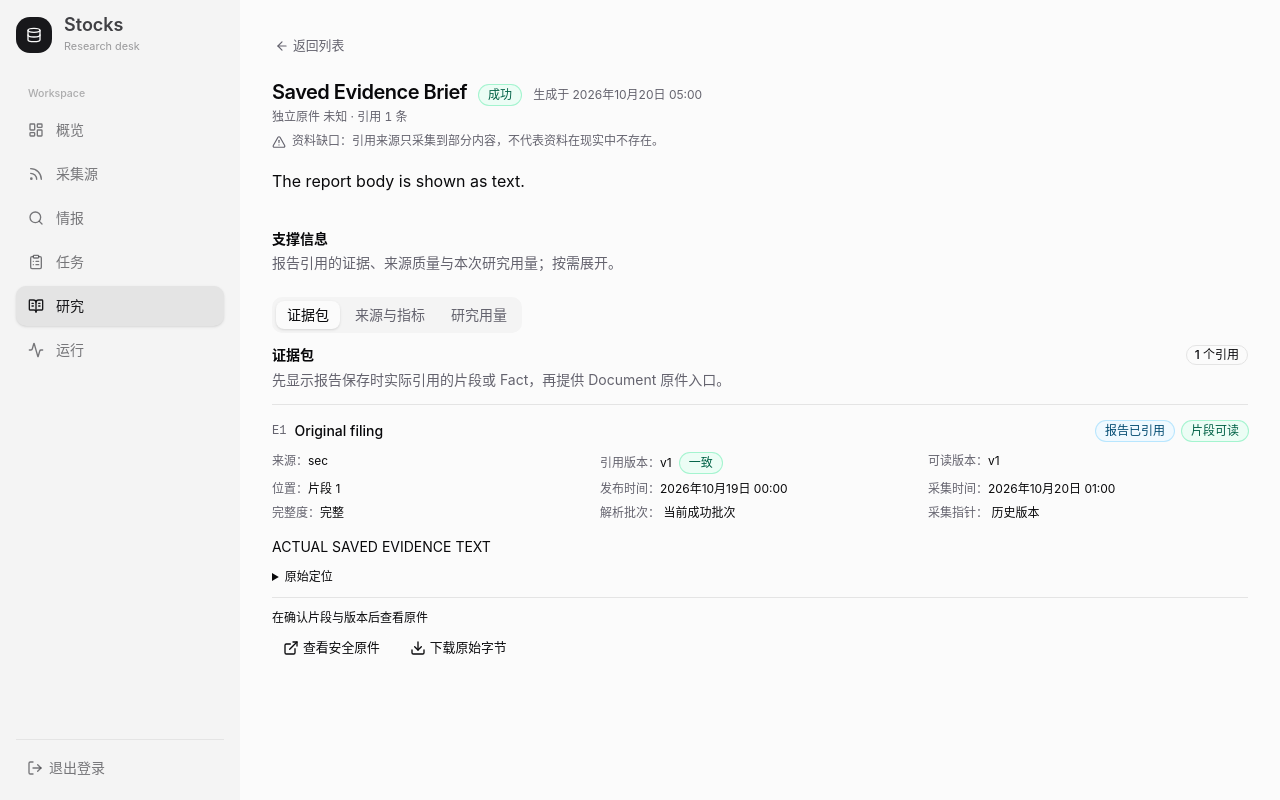
Scenario: ResearchDetailPage › mounts support sections lazily and keeps the original links after evidence
This screenshot has width=1280, height=800.
Expected: the text "ACTUAL SAVED EVIDENCE TEXT" is shown, [272,538,491,555]
Expected: the tab "证据包" is shown, [276,301,340,329]
Click the tab "研究用量" at (479, 315), box [440,301,518,329]
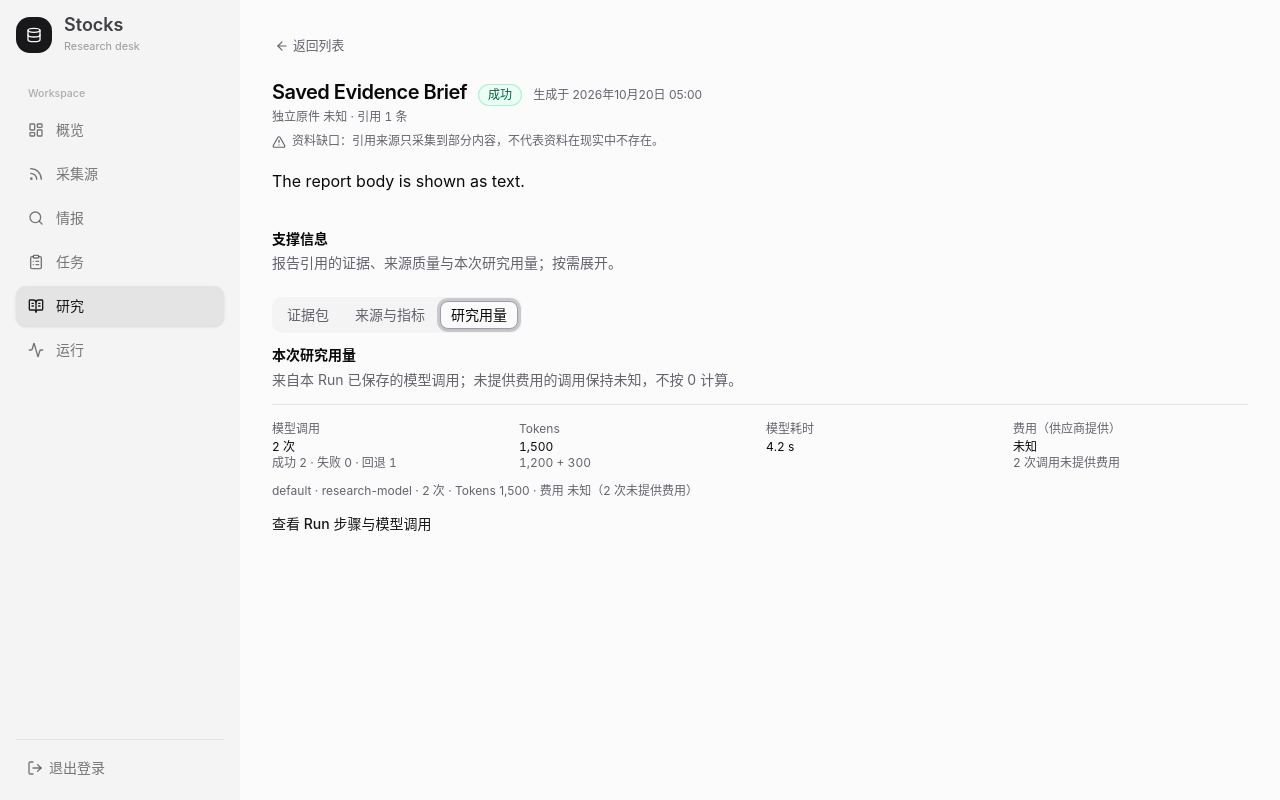
Expected: the heading "本次研究用量" is shown, [272,345,356,365]
Expected: the text "2 次调用未提供费用" is shown, [1013,455,1120,470]
Click the tab "证据包" at (308, 315), box [276,301,340,329]
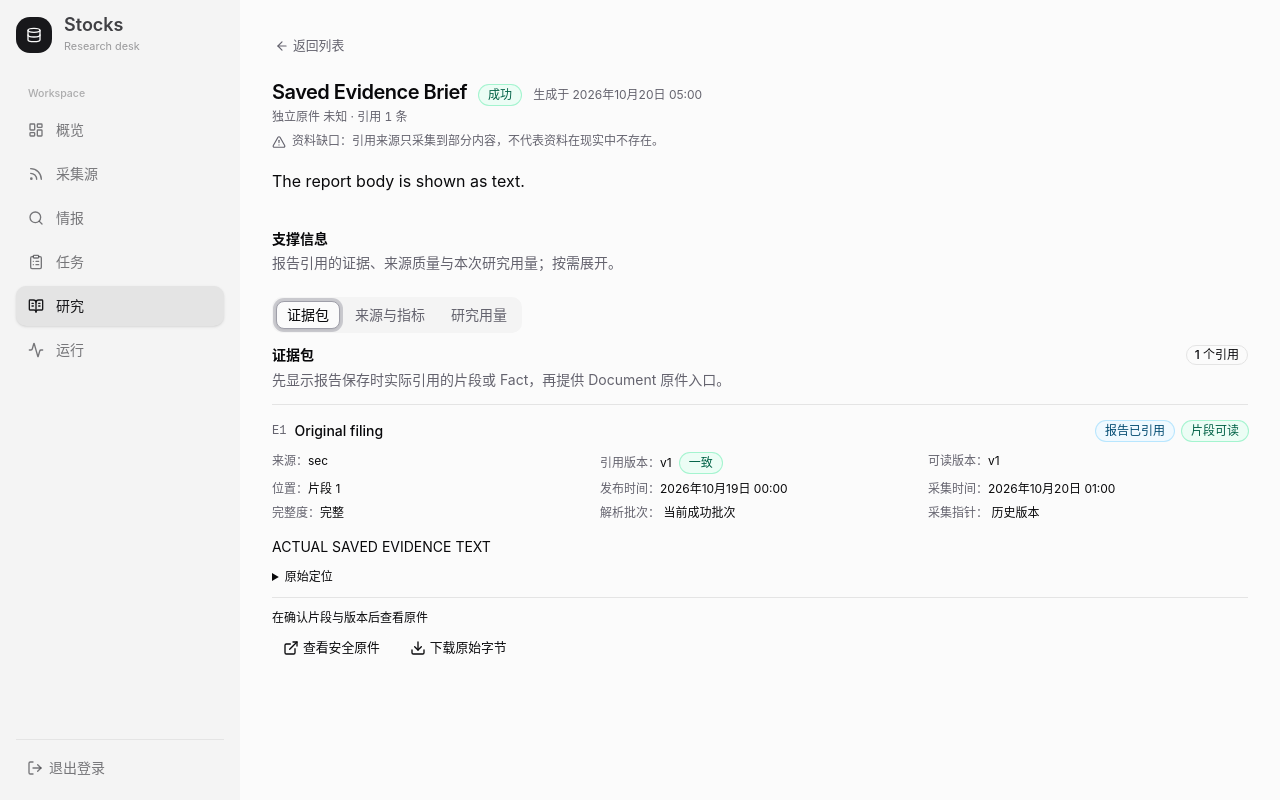
Expected: the text "ACTUAL SAVED EVIDENCE TEXT" is shown, [272,538,491,555]
